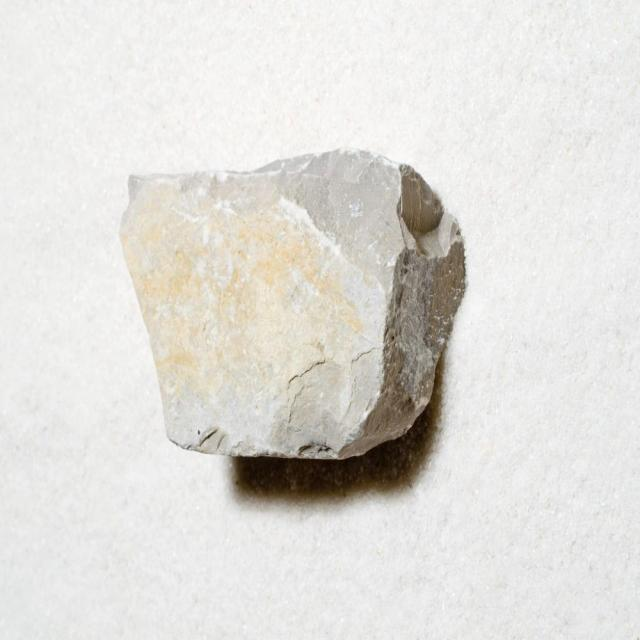Sedimentary: (99, 129, 486, 456)
